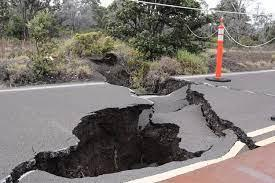Pothole: (100, 56, 263, 155), (0, 100, 194, 179)
